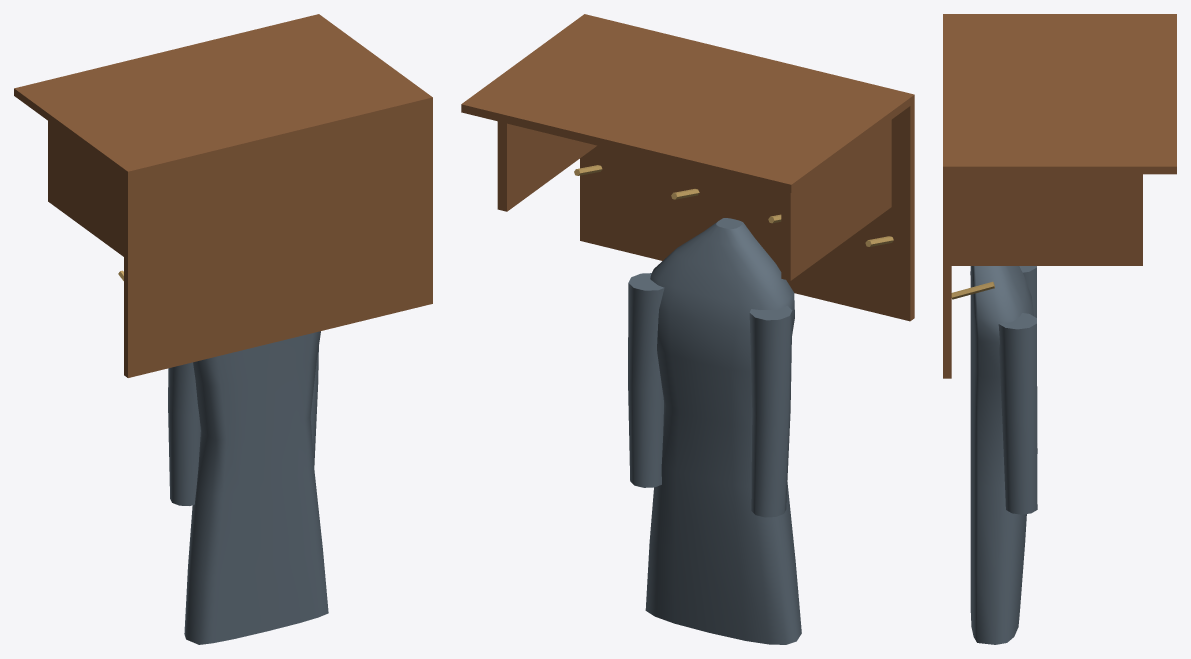
The model's file is parametric-wall-coat-rack-1st-0850x0550x1950.glb.
3 views of the same model, side by side, from view 1: azimuth 30°, elevation 25°; view 2: azimuth 150°, elevation 25°; view 3: azimuth 270°, elevation 25° (orthographic). The views are drawn at different scales.
Parts seen in each view (by area): view 1: backboard, hat-shelf, coat:0, bracket:-1, coat-sleeve:0:-1; view 2: coat:0, hat-shelf, backboard, bracket:-1, coat-sleeve:0:-1, coat-sleeve:0:1, bracket:1; view 3: hat-shelf, bracket:1, coat:0, coat-sleeve:0:1, backboard, coat-sleeve:0:-1.
Boxes of the visible parts, box(x1,y1,x2,y2) form: backboard: box(124, 105, 432, 377); hat-shelf: box(14, 14, 432, 178); coat:0: box(184, 331, 328, 644); bracket:-1: box(48, 121, 123, 256); coat-sleeve:0:-1: box(168, 362, 200, 505); coat:0: box(645, 218, 801, 644); hat-shelf: box(461, 14, 914, 192); backboard: box(580, 103, 914, 321); bracket:-1: box(781, 120, 891, 280); coat-sleeve:0:-1: box(749, 306, 792, 517); coat-sleeve:0:1: box(628, 273, 664, 487); bracket:1: box(497, 121, 596, 211); hat-shelf: box(943, 14, 1176, 174); bracket:1: box(951, 174, 1142, 265); coat:0: box(970, 266, 1033, 644); coat-sleeve:0:1: box(998, 313, 1037, 514); backboard: box(943, 174, 951, 378); coat-sleeve:0:-1: box(1019, 266, 1037, 453).
Size of the model in its own units: 0.85 by 1.35 by 0.55.
